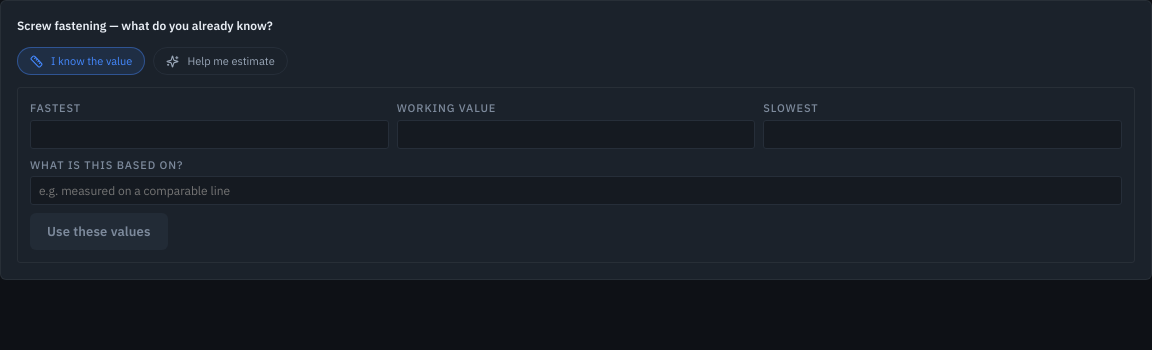
Test case: the estimator opens on the reviewed operation › leaves the count blank where nothing states one
The width and height of the screenshot is (1152, 350).
Click the tab with test id "estimate-mode-assist" at {"x": 221, "y": 61}, box x1=153 y1=47 x2=288 y2=75
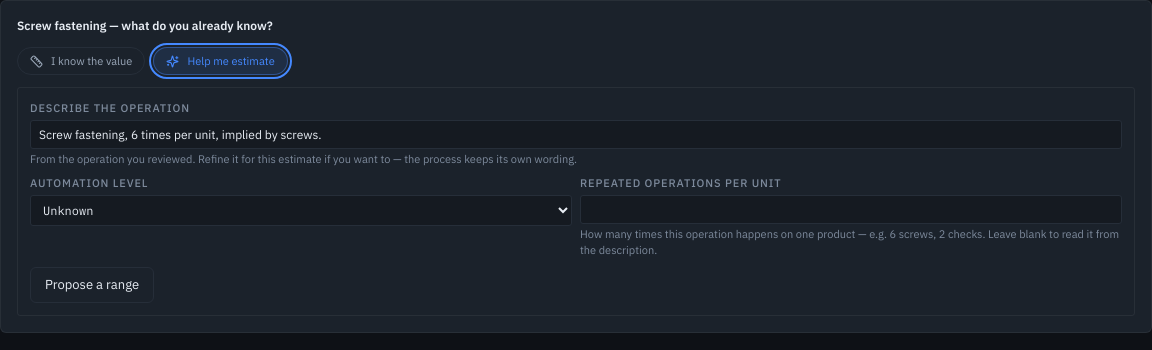
Expected: the number field with test id "estimate-operations" is not empty, x1=580 y1=195 x2=1122 y2=224
Now the text with test id "estimate-operations-source" shows "How many times this operation happens on one product", box x1=580 y1=227 x2=1119 y2=257
